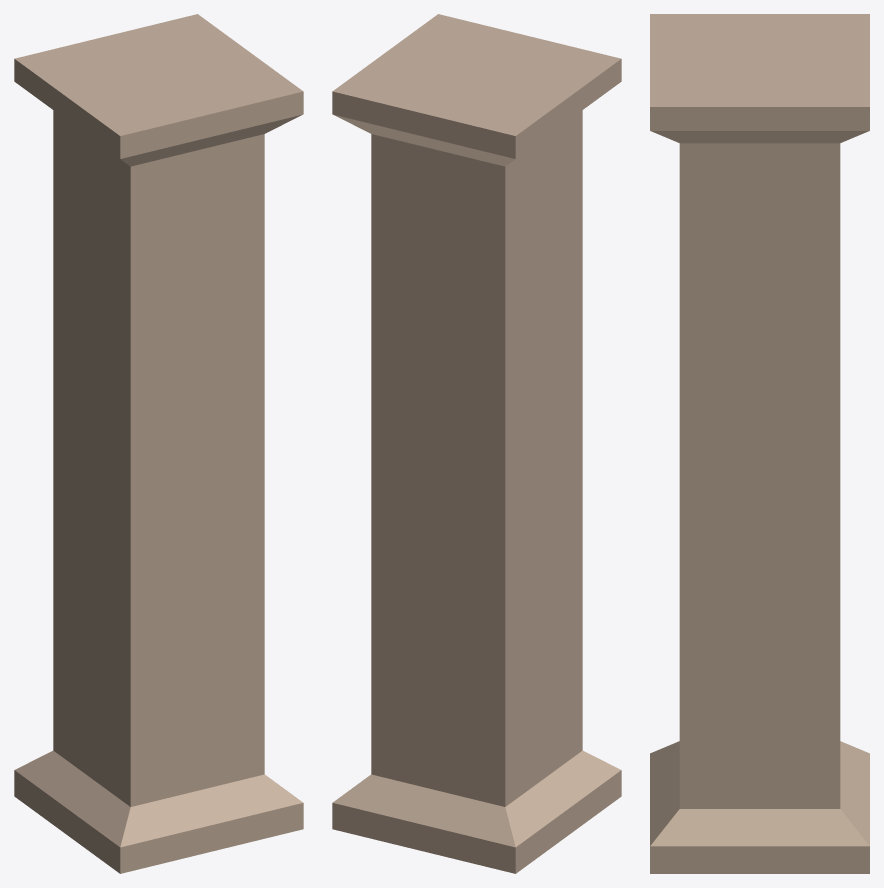
File: F_bossromm_pillar.fbx
The picture shows the model from 3 angles, left to right: view 1: azimuth 30°, elevation 25°; view 2: azimuth 150°, elevation 25°; view 3: azimuth 270°, elevation 25°; orthographic projection. The views are drawn at different scales.
Visible parts, largest first — view 1: boss_pillar; view 2: boss_pillar; view 3: boss_pillar.
Part boxes in pixels (x1,y1,x2,y2): boss_pillar: (14, 14, 303, 873); boss_pillar: (332, 14, 621, 873); boss_pillar: (650, 14, 869, 873).
Size of the model in its own units: 59.68 by 230 by 59.68.
